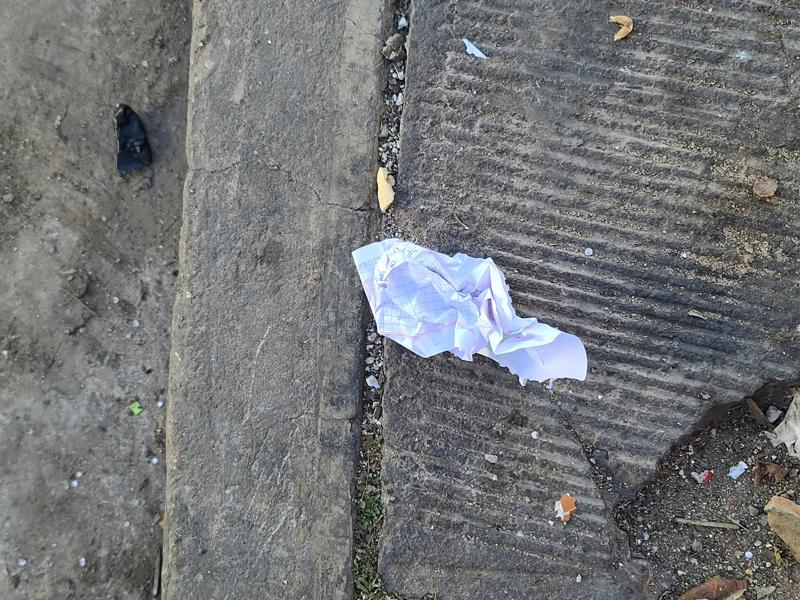papel: (351, 239, 589, 384)
